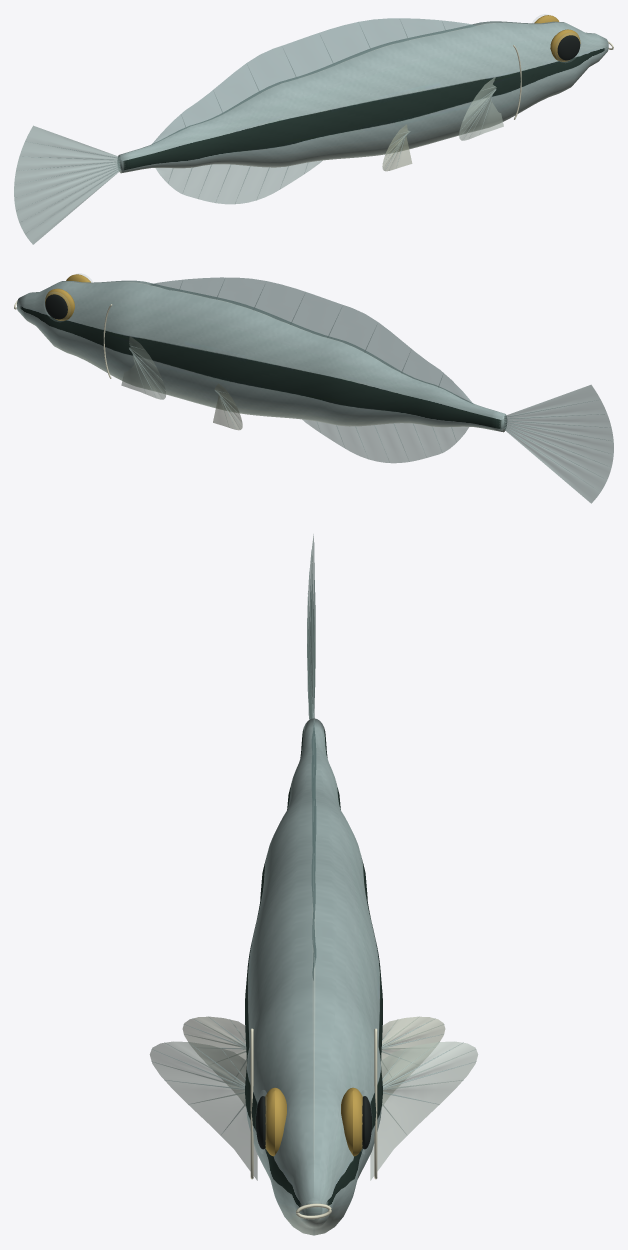
The model's file is cleanerwrasse-mobile.glb.
3 renders of one model, top to bottom at view 1: azimuth 30°, elevation 25°; view 2: azimuth 150°, elevation 25°; view 3: azimuth 270°, elevation 25°, orthographic. The views are drawn at different scales.
Parts seen in each view (by area): view 1: skin, dorsal, tail, anal, dorsal-ray, pectoral-left, pelvic-left, eye-iris--1, eye-pupil--1; view 2: skin, dorsal, tail, anal, pectoral-left, dorsal-ray, pelvic-left, eye-iris--1, eye-pupil--1; view 3: skin, pectoral-left, pelvic-left, dorsal-ray, eye-iris--1, operculum, tail, dorsal, eye-pupil--1.
Part boxes in pixels (bbox=[...]): skin: bbox=[117, 21, 608, 173]; dorsal: bbox=[151, 18, 475, 144]; tail: bbox=[14, 125, 120, 244]; anal: bbox=[155, 160, 321, 204]; dorsal-ray: bbox=[16, 20, 496, 233]; pectoral-left: bbox=[459, 77, 503, 140]; pelvic-left: bbox=[382, 124, 412, 171]; eye-iris--1: bbox=[534, 15, 580, 61]; eye-pupil--1: bbox=[557, 35, 580, 60]; skin: bbox=[17, 280, 506, 432]; dorsal: bbox=[150, 277, 473, 403]; tail: bbox=[504, 385, 613, 503]; anal: bbox=[302, 419, 468, 463]; pectoral-left: bbox=[121, 336, 166, 399]; dorsal-ray: bbox=[129, 281, 612, 479]; pelvic-left: bbox=[213, 383, 242, 430]; eye-iris--1: bbox=[45, 274, 90, 320]; eye-pupil--1: bbox=[45, 294, 67, 319]; skin: bbox=[245, 718, 382, 1235]; pectoral-left: bbox=[150, 1041, 477, 1180]; pelvic-left: bbox=[182, 1016, 445, 1105]; dorsal-ray: bbox=[151, 550, 476, 1134]; eye-iris--1: bbox=[265, 1087, 362, 1156]; operculum: bbox=[250, 1028, 377, 1219]; tail: bbox=[307, 534, 315, 719]; dorsal: bbox=[311, 723, 316, 980]; eye-pupil--1: bbox=[256, 1096, 371, 1149].
Bounding box in the file's own units: 0.5972 × 0.1472 × 0.1425.
Materials: 11 (1 with a texture image).
